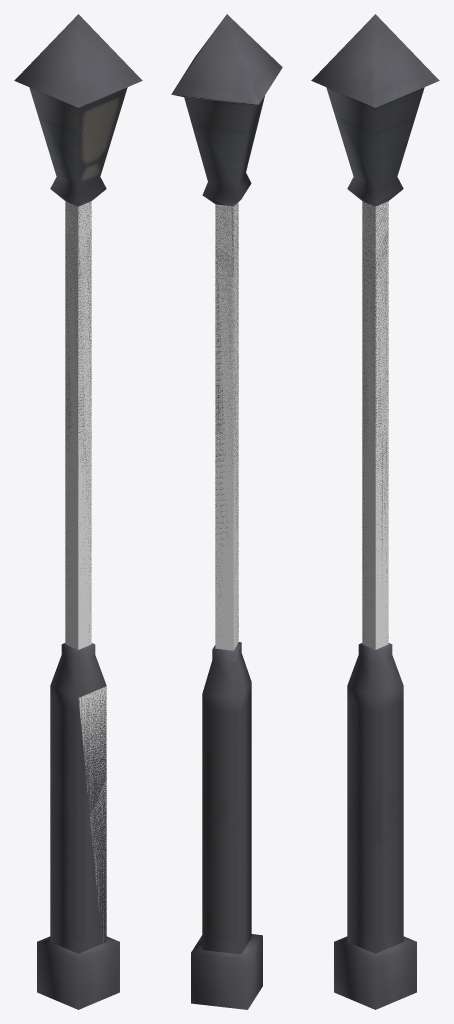
The model's file is objects_un_streetlight01.gltf.
The picture shows the model from 3 angles, left to right: view 1: azimuth 90°, elevation 25°; view 2: azimuth 210°, elevation 25°; view 3: azimuth 270°, elevation 25°; orthographic projection.
Parts seen in each view (by area): view 1: nomerge_objects_un_streetlight01_mesh1_shape:objects_un_stre, nomerge_objects_un_streetlight01_shadow_shape:objects_un_str; view 2: nomerge_objects_un_streetlight01_mesh1_shape:objects_un_stre, nomerge_objects_un_streetlight01_shadow_shape:objects_un_str; view 3: nomerge_objects_un_streetlight01_mesh1_shape:objects_un_stre, nomerge_objects_un_streetlight01_shadow_shape:objects_un_str.
Part boxes in pixels (box(x1,y1,x2,y2)): nomerge_objects_un_streetlight01_mesh1_shape:objects_un_stre: box(14, 14, 142, 1009); nomerge_objects_un_streetlight01_shadow_shape:objects_un_str: box(65, 201, 106, 942); nomerge_objects_un_streetlight01_mesh1_shape:objects_un_stre: box(171, 14, 282, 1009); nomerge_objects_un_streetlight01_shadow_shape:objects_un_str: box(215, 202, 238, 650); nomerge_objects_un_streetlight01_mesh1_shape:objects_un_stre: box(311, 14, 439, 1009); nomerge_objects_un_streetlight01_shadow_shape:objects_un_str: box(362, 201, 388, 649).
Size of what is drawn, in the model's own units: 0.537 by 4.51 by 0.537.
2 materials, 1 textured.
